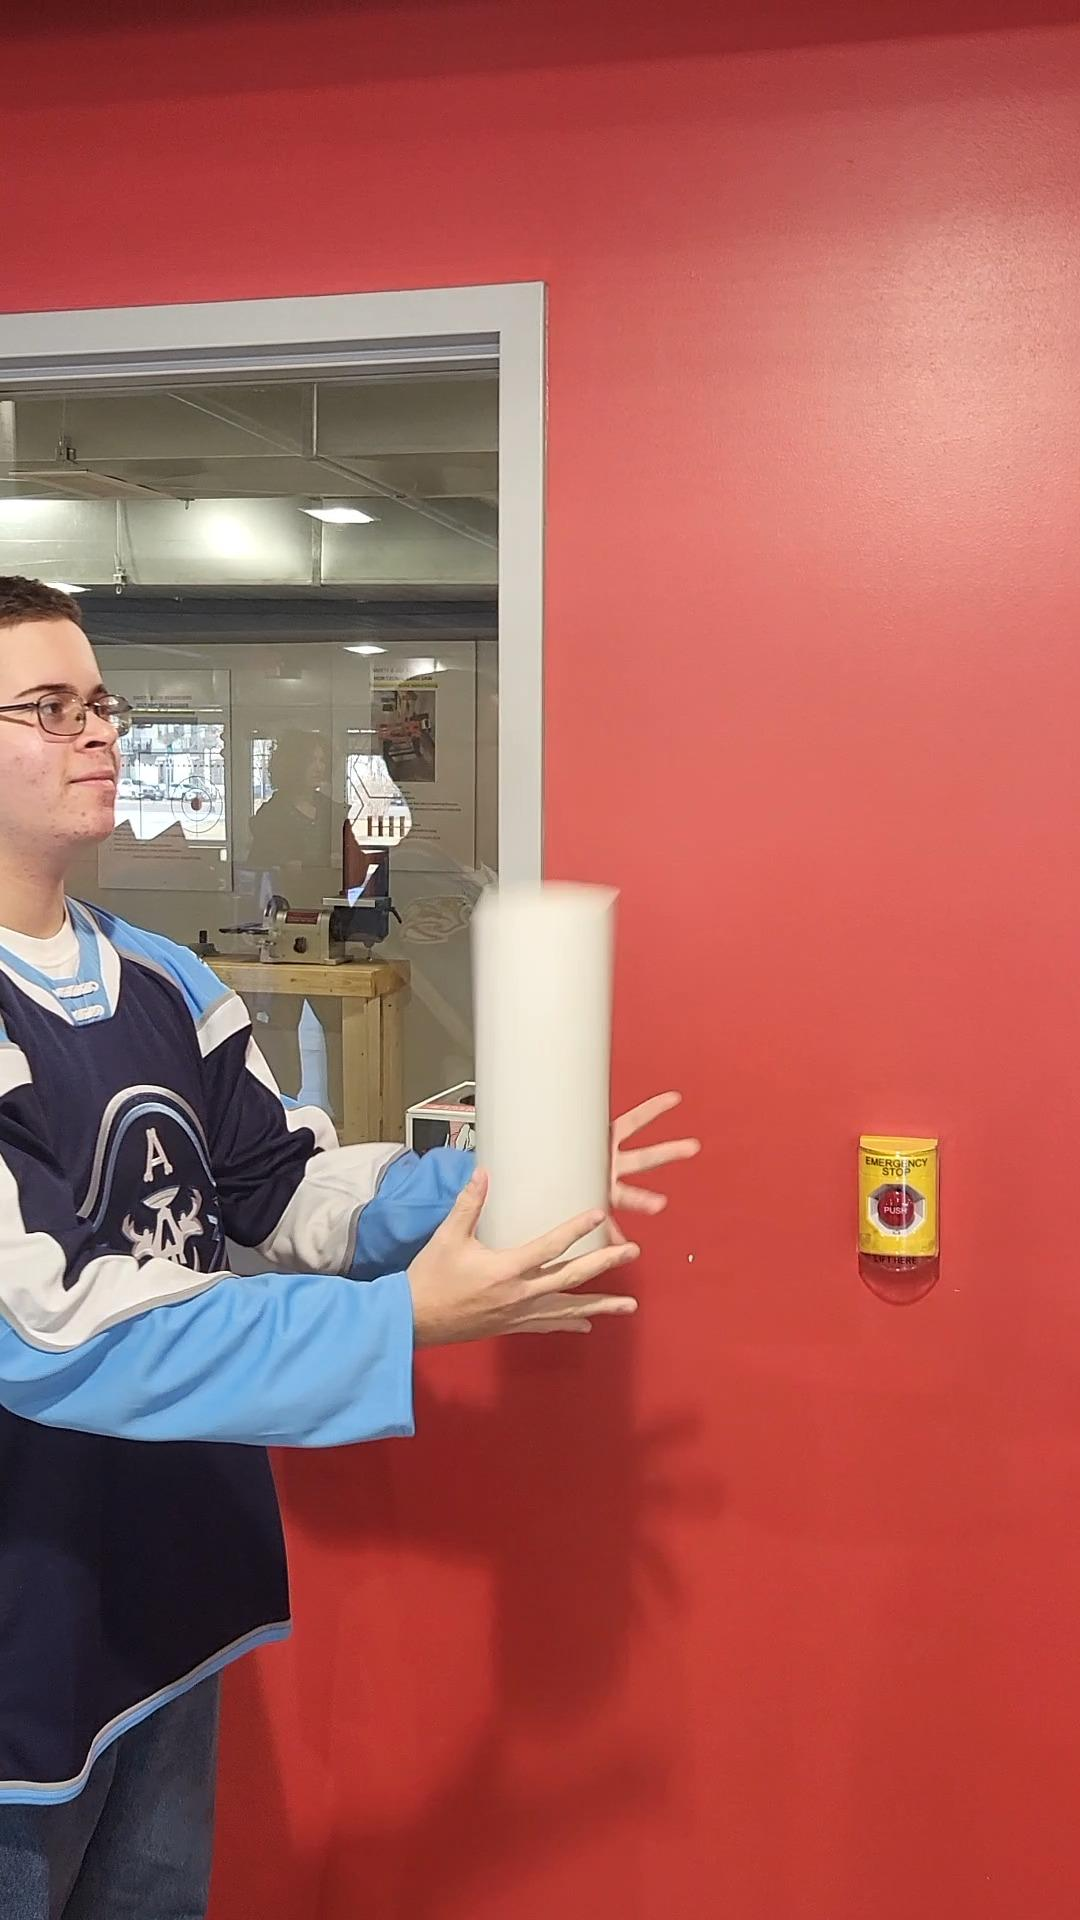coral: (467, 877, 624, 1283)
